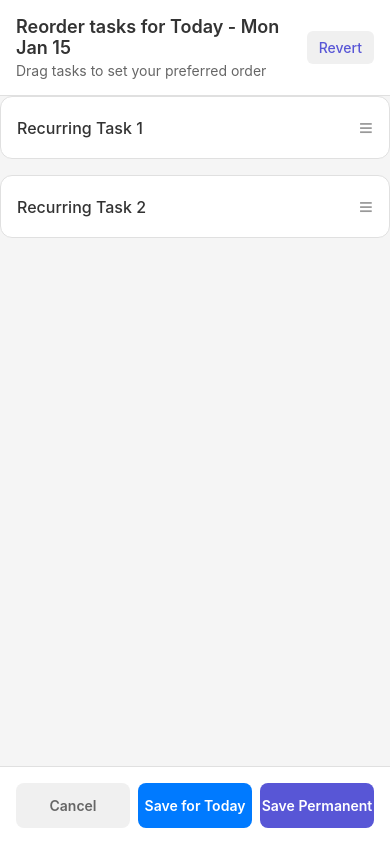
Test: ReorderTasksScreen › shows confirmation modal when Override All is selected
The width and height of the screenshot is (390, 844).
# Press Save Permanent to open first modal
Click the text "Save Permanent" at {"x": 317, "y": 806}, box [262,797,372,814]
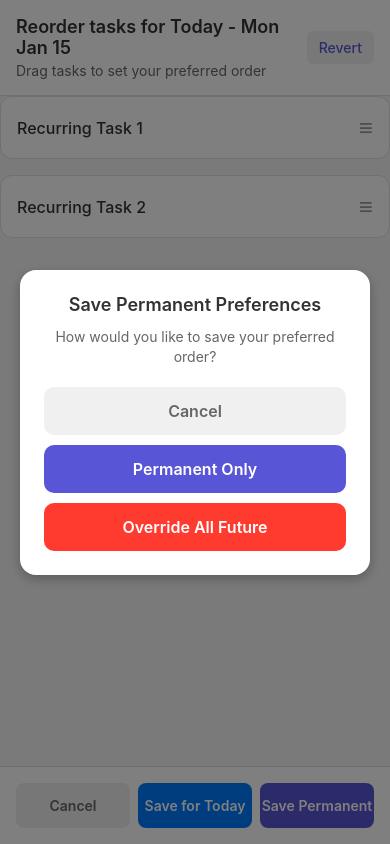
Now the text "Override All Future" is shown
Click the text "Override All Future" at {"x": 195, "y": 526}, box [122,516,268,536]
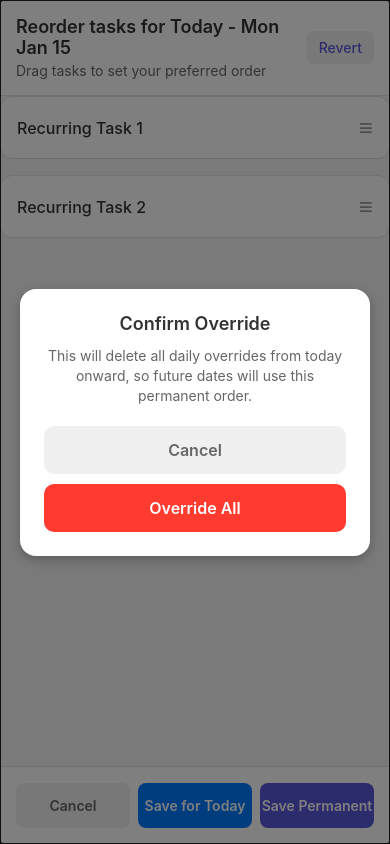
Now the text "Confirm Override" is shown, box [120,312,270,334]
Now the text "delete all daily overrides from today onward" is shown, box [48,346,346,404]
